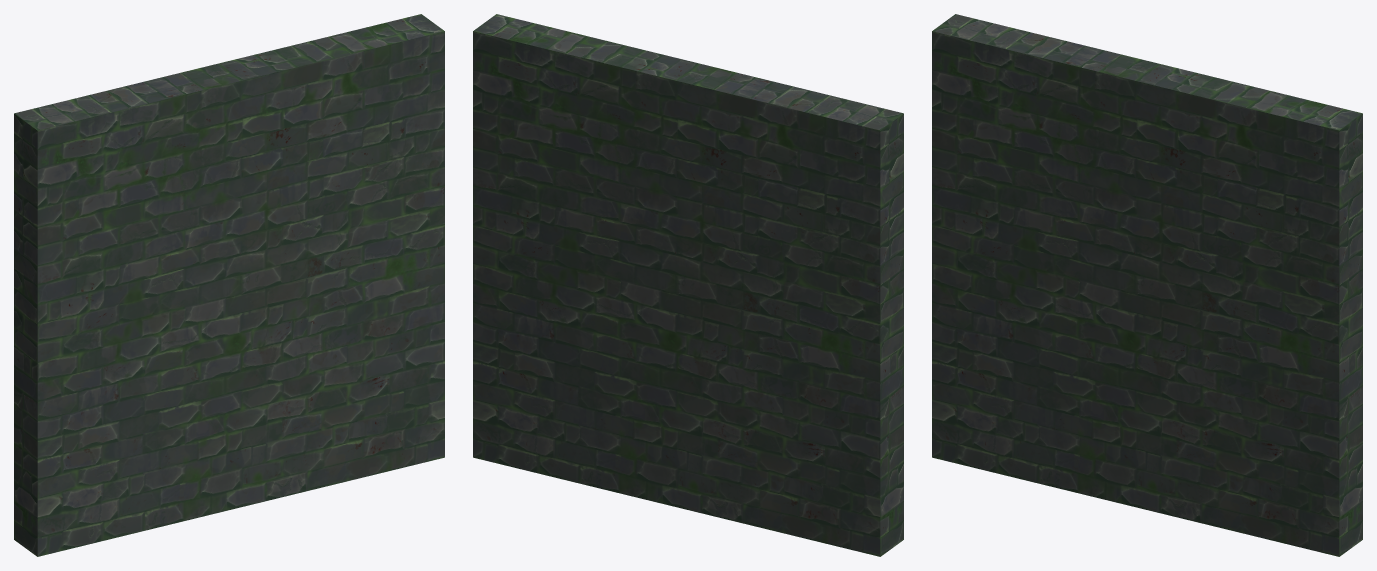
File: wall.fbx
3 views of the same model, side by side, from view 1: azimuth 30°, elevation 25°; view 2: azimuth 150°, elevation 25°; view 3: azimuth 330°, elevation 25° (orthographic).
Parts seen in each view (by area): view 1: wall; view 2: wall; view 3: wall.
Part boxes in pixels (<box>): wall: <box>14,14,444,556</box>; wall: <box>473,14,903,556</box>; wall: <box>932,14,1362,556</box>.
Size of the model in its own units: 400 by 400 by 40.
Materials: 1 (1 with a texture image).
